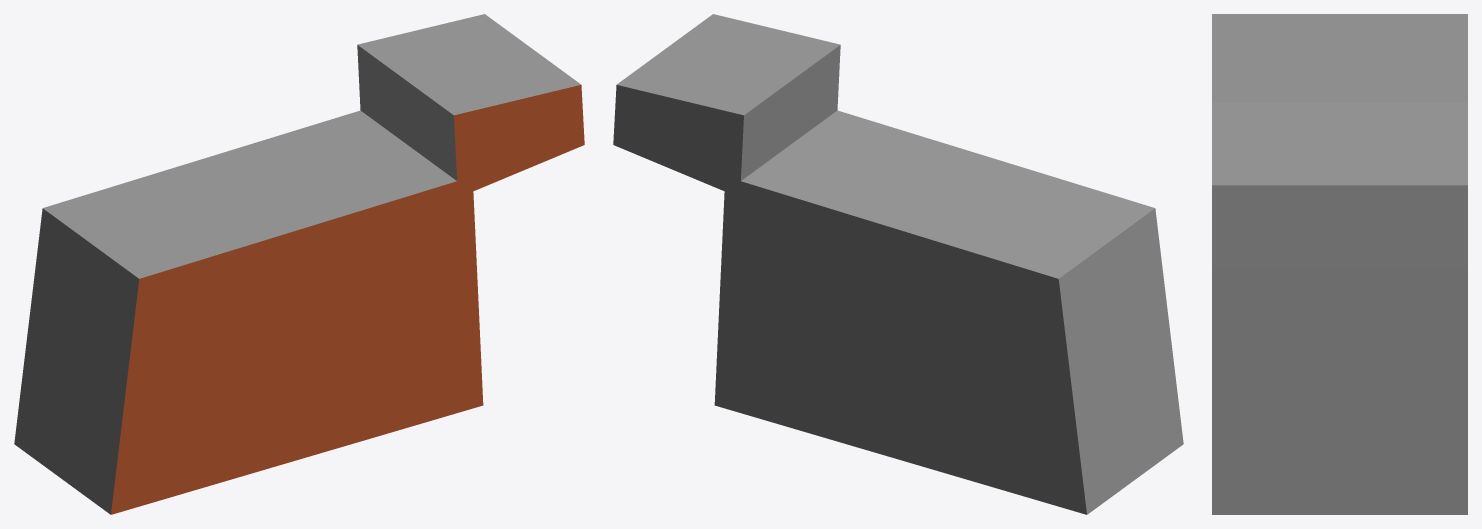
File: construction_4018_assumed_A_Casa_h6m.obj
3 renders of one model, left to right at view 1: azimuth 30°, elevation 25°; view 2: azimuth 150°, elevation 25°; view 3: azimuth 270°, elevation 25°, orthographic. The views are drawn at different scales.
Parts seen in each view (by area): view 1: construction_4018_assumed_A_Casa; view 2: construction_4018_assumed_A_Casa; view 3: construction_4018_assumed_A_Casa.
Boxes of the visible parts, x1=… form: construction_4018_assumed_A_Casa: x1=14, y1=14, x2=584, y2=514; construction_4018_assumed_A_Casa: x1=613, y1=14, x2=1183, y2=514; construction_4018_assumed_A_Casa: x1=1212, y1=14, x2=1467, y2=514.
Bounding box in the file's own units: 16.98 × 10.82 × 6.
